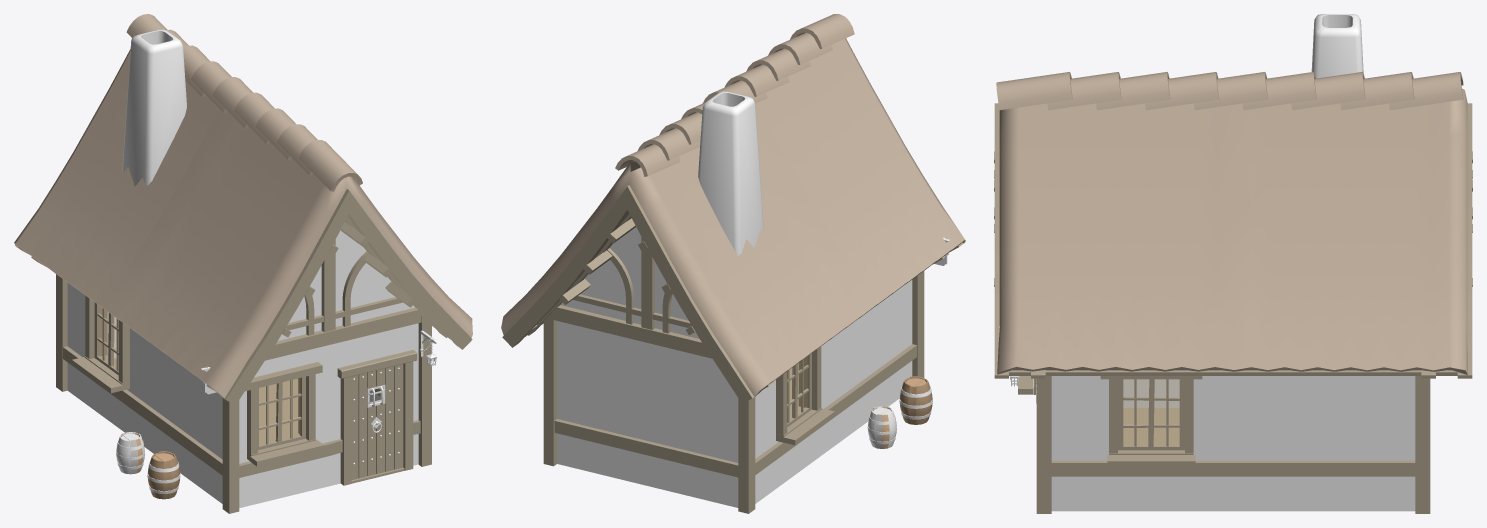
File: gullhaven_smokehouse.glb
3 renders of one model, left to right at view 1: azimuth 30°, elevation 25°; view 2: azimuth 150°, elevation 25°; view 3: azimuth 270°, elevation 25°, orthographic. The views are drawn at different scales.
Parts seen in each view (by area): view 1: civic-smokehouse:roof:village/MI_RoundTiles, civic-smokehouse:structure:village/MI_Plaster, civic-smokehouse:roof:village/MI_WoodTrim, civic-smokehouse:structure:village/MI_WoodTrim, civic-smokehouse:window:village/MI_WoodTrim, civic-smokehouse:roof:village/MI_UnevenBrick, civic-smokehouse:structure:village/MI_UnevenBrick, civic-smokehouse:entry-leaf:village/MI_WoodTrim_Wear, civic-smokehouse:roof:village/MI_Plaster, civic-smokehouse:furniture:props/MI_Trim_Furniture (×2), civic-smokehouse:floor:village/MI_WoodTrim, civic-smokehouse:structure:village/MI_RockTrim (+1 smaller); view 2: civic-smokehouse:roof:village/MI_RoundTiles, civic-smokehouse:structure:village/MI_Plaster, civic-smokehouse:roof:village/MI_WoodTrim, civic-smokehouse:structure:village/MI_WoodTrim, civic-smokehouse:structure:village/MI_UnevenBrick, civic-smokehouse:roof:village/MI_UnevenBrick, civic-smokehouse:roof:village/MI_Plaster, civic-smokehouse:window:village/MI_WoodTrim, civic-smokehouse:furniture:props/MI_Trim_Furniture (×2); view 3: civic-smokehouse:roof:village/MI_RoundTiles, civic-smokehouse:structure:village/MI_Plaster, civic-smokehouse:structure:village/MI_UnevenBrick, civic-smokehouse:structure:village/MI_WoodTrim, civic-smokehouse:roof:village/MI_WoodTrim, civic-smokehouse:window:village/MI_WoodTrim, civic-smokehouse:roof:village/MI_UnevenBrick, civic-smokehouse:floor:village/MI_WoodTrim.
Boxes of the visible parts, <box> form: civic-smokehouse:roof:village/MI_RoundTiles: <box>14,14,472,398</box>; civic-smokehouse:structure:village/MI_Plaster: <box>67,283,418,463</box>; civic-smokehouse:roof:village/MI_WoodTrim: <box>15,189,472,404</box>; civic-smokehouse:structure:village/MI_WoodTrim: <box>56,274,431,513</box>; civic-smokehouse:window:village/MI_WoodTrim: <box>72,295,380,466</box>; civic-smokehouse:roof:village/MI_UnevenBrick: <box>122,29,186,186</box>; civic-smokehouse:structure:village/MI_UnevenBrick: <box>67,362,327,507</box>; civic-smokehouse:entry-leaf:village/MI_WoodTrim_Wear: <box>351,364,403,479</box>; civic-smokehouse:roof:village/MI_Plaster: <box>278,230,414,340</box>; civic-smokehouse:furniture:props/MI_Trim_Furniture (×2): <box>116,432,179,499</box>; civic-smokehouse:floor:village/MI_WoodTrim: <box>259,379,298,441</box>; civic-smokehouse:structure:village/MI_RockTrim: <box>327,434,418,486</box>; civic-smokehouse:roof:village/MI_RoundTiles: <box>501,14,965,396</box>; civic-smokehouse:structure:village/MI_Plaster: <box>557,280,912,462</box>; civic-smokehouse:roof:village/MI_WoodTrim: <box>502,185,965,403</box>; civic-smokehouse:structure:village/MI_WoodTrim: <box>543,271,924,513</box>; civic-smokehouse:structure:village/MI_UnevenBrick: <box>557,361,912,507</box>; civic-smokehouse:roof:village/MI_UnevenBrick: <box>698,91,763,255</box>; civic-smokehouse:roof:village/MI_Plaster: <box>560,227,699,338</box>; civic-smokehouse:window:village/MI_WoodTrim: <box>776,346,834,445</box>; civic-smokehouse:furniture:props/MI_Trim_Furniture (×2): <box>868,376,932,448</box>; civic-smokehouse:roof:village/MI_RoundTiles: <box>996,72,1467,374</box>; civic-smokehouse:structure:village/MI_Plaster: <box>1051,376,1415,460</box>; civic-smokehouse:structure:village/MI_UnevenBrick: <box>1051,476,1415,511</box>; civic-smokehouse:structure:village/MI_WoodTrim: <box>1035,376,1430,513</box>; civic-smokehouse:roof:village/MI_WoodTrim: <box>994,103,1472,378</box>; civic-smokehouse:window:village/MI_WoodTrim: <box>1018,376,1202,466</box>; civic-smokehouse:roof:village/MI_UnevenBrick: <box>1311,14,1363,78</box>; civic-smokehouse:floor:village/MI_WoodTrim: <box>1123,408,1179,441</box>.
Size of the model in its own units: 5.75 by 7.24 by 7.59.
